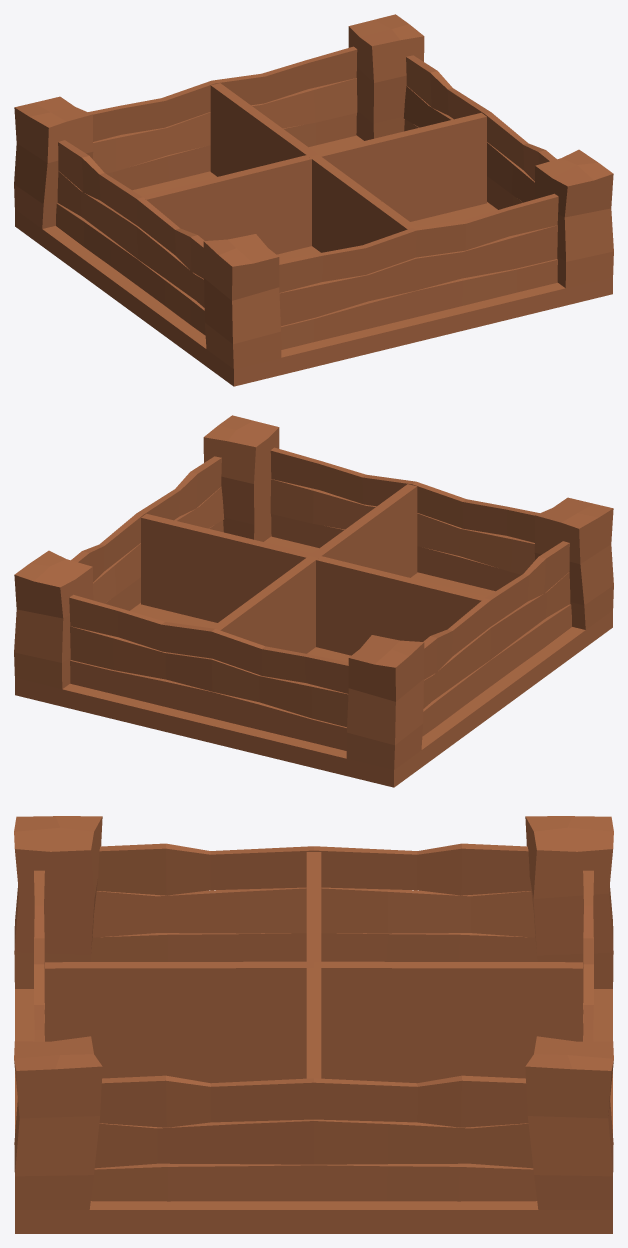
The model's file is emptyPlanter.fbx.
3 views of the same model, one above another, from view 1: azimuth 30°, elevation 25°; view 2: azimuth 150°, elevation 25°; view 3: azimuth 270°, elevation 25° (orthographic). The views are drawn at different scales.
Parts seen in each view (by area): view 1: Planter; view 2: Planter; view 3: Planter.
Boxes of the visible parts, x1,y1,x2,y2 form: Planter: (14, 14, 613, 386); Planter: (14, 415, 613, 787); Planter: (14, 816, 613, 1233).
Size of the model in its own units: 201 by 61.28 by 201.
